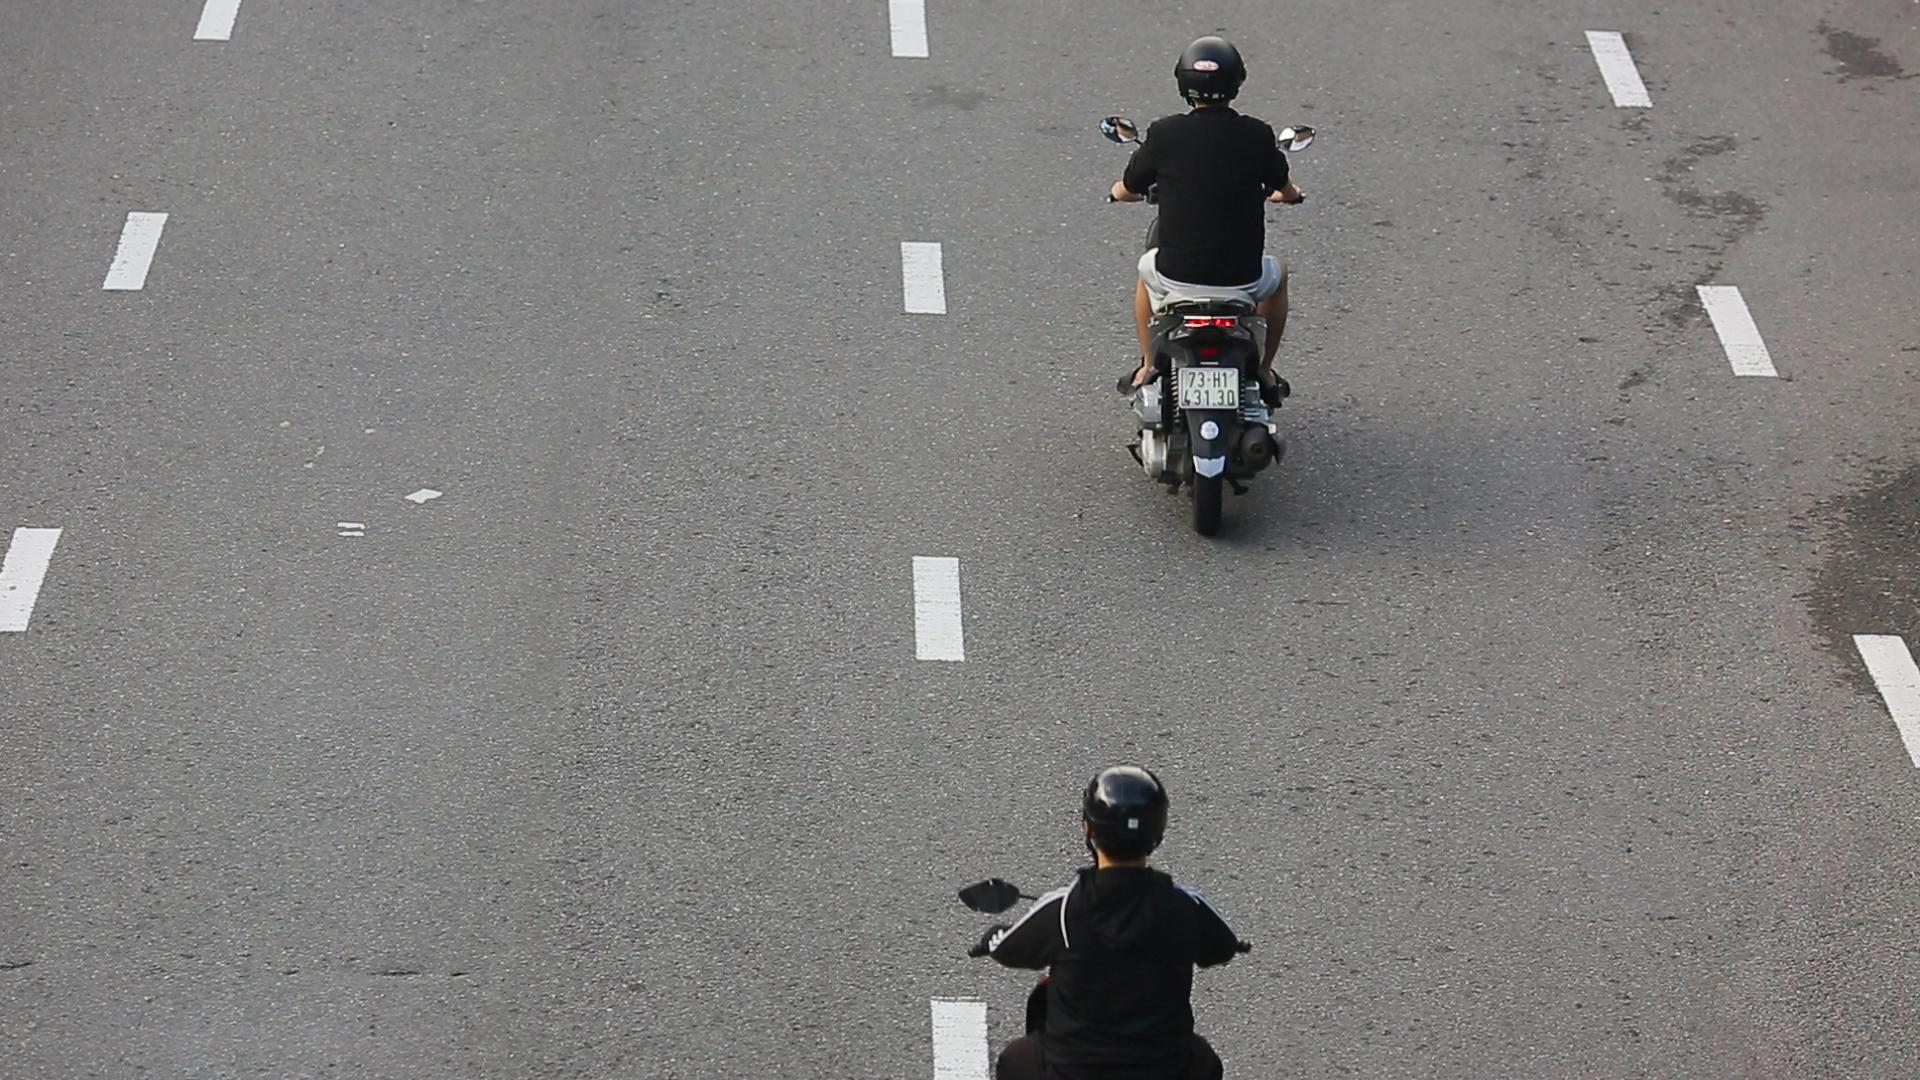motobike: (1095, 32, 1328, 541)
